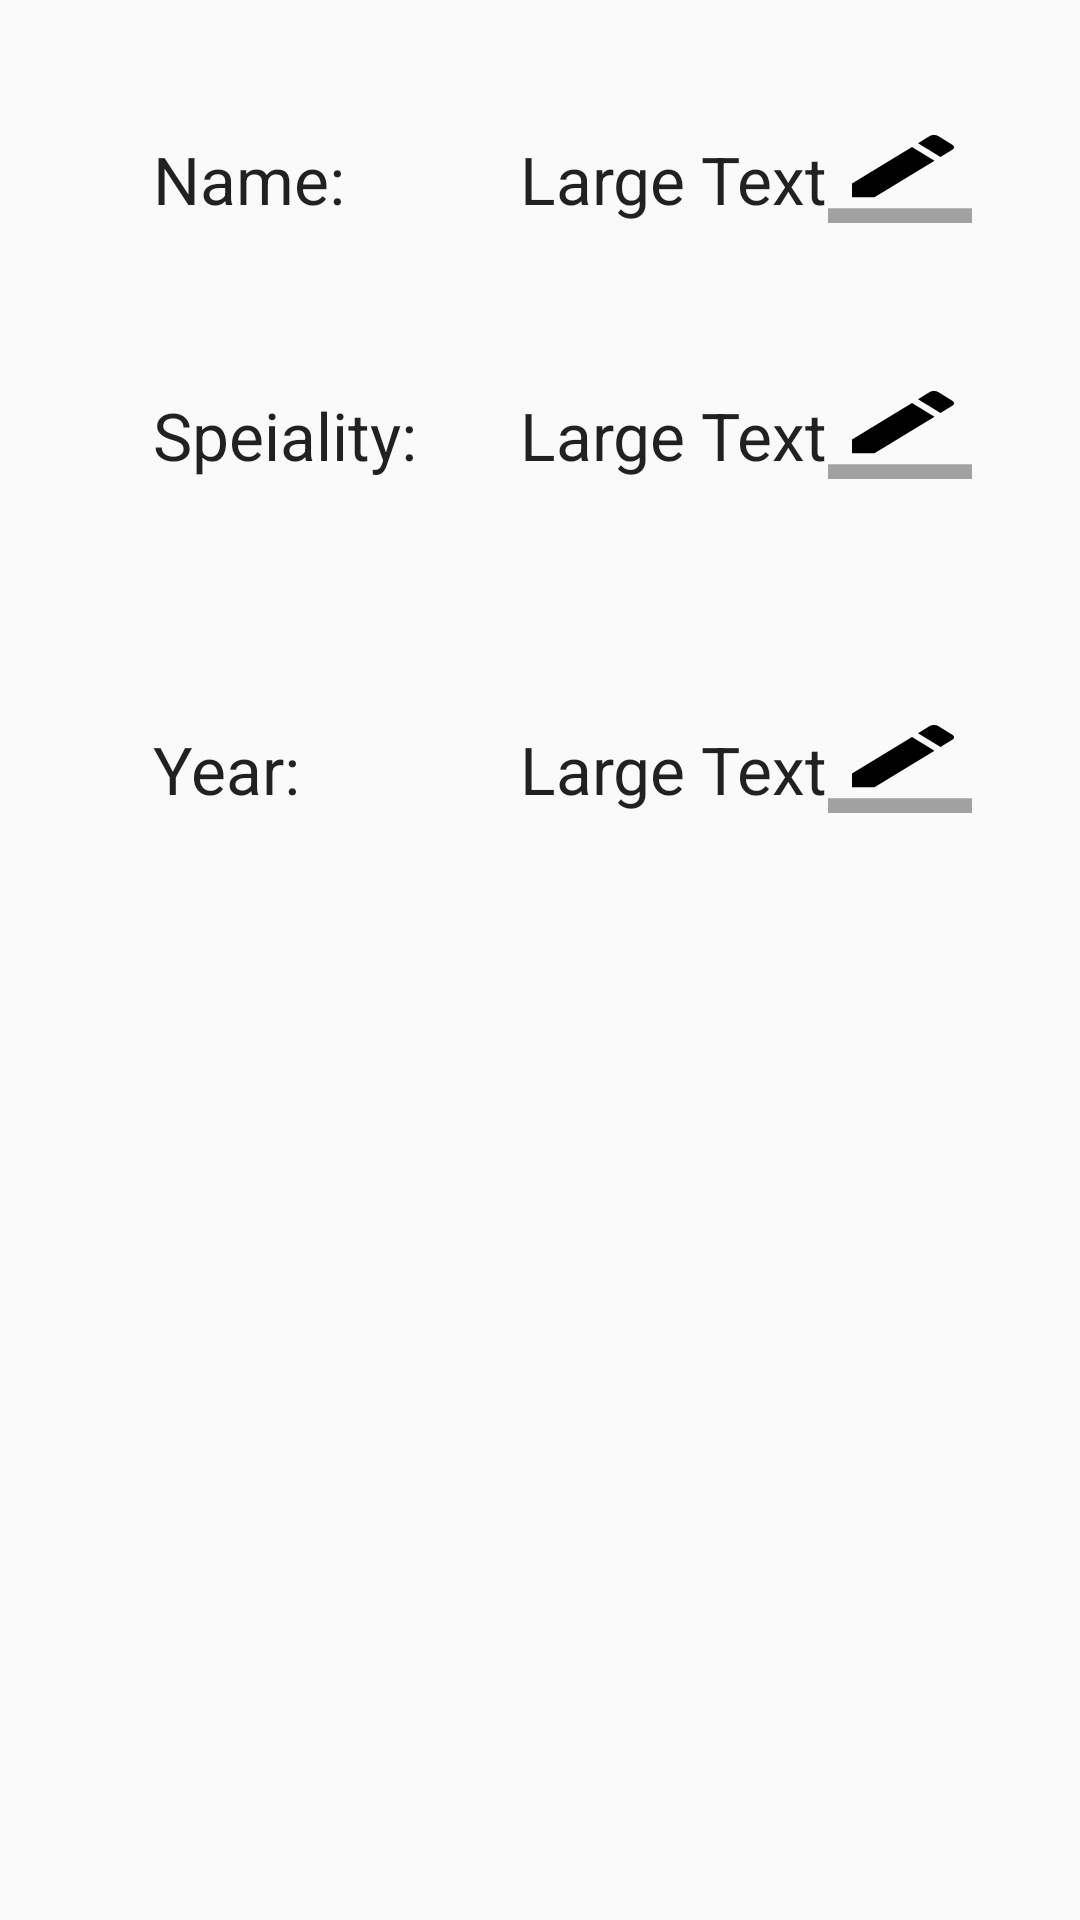

Point at icon controls on the screen. Image size 1080 × 1920, points as (x=x, y=y).
edit: (x=900, y=179), (x=900, y=435), (x=900, y=769)
